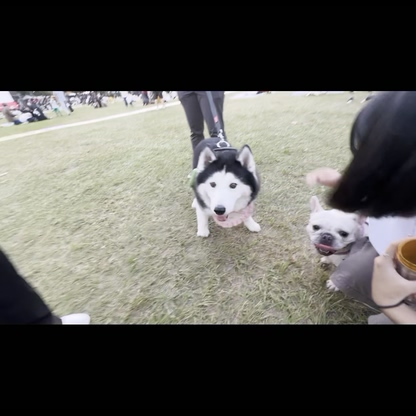bulldog: (301, 192, 371, 275)
husky: (185, 135, 268, 244)
